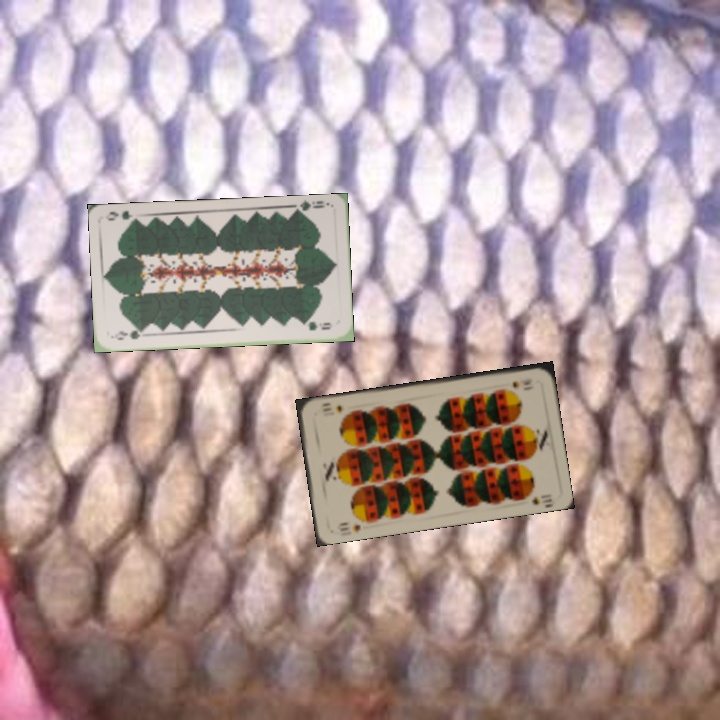G9: (291, 197, 332, 218), (108, 326, 148, 342)
S10: (333, 518, 363, 534), (508, 374, 535, 390)
